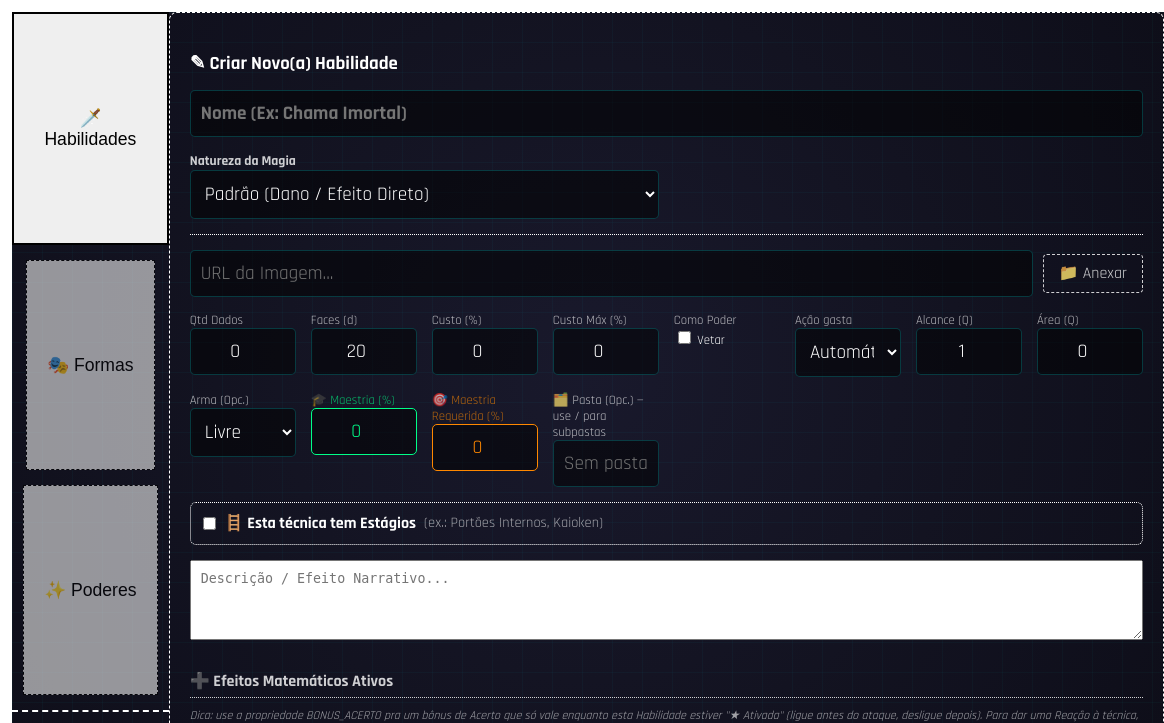
Test: PoderesFormEditor (UI) — os campos de Maestria aparecem nas 3 abas, cada uma com seu conjunto (Forma: +Fadiga por Uso; Habilidade/Poder: +Maestria Requerida) › digitar 150 no campo de Maestria Requerida (aba Habilidades) clampa visualmente pra 100, e -20 clampa pra 0
Replace the text in the number field below "🎯 Maestria Requerida (%)" with "150" at (485, 447), box [432, 424, 538, 471]
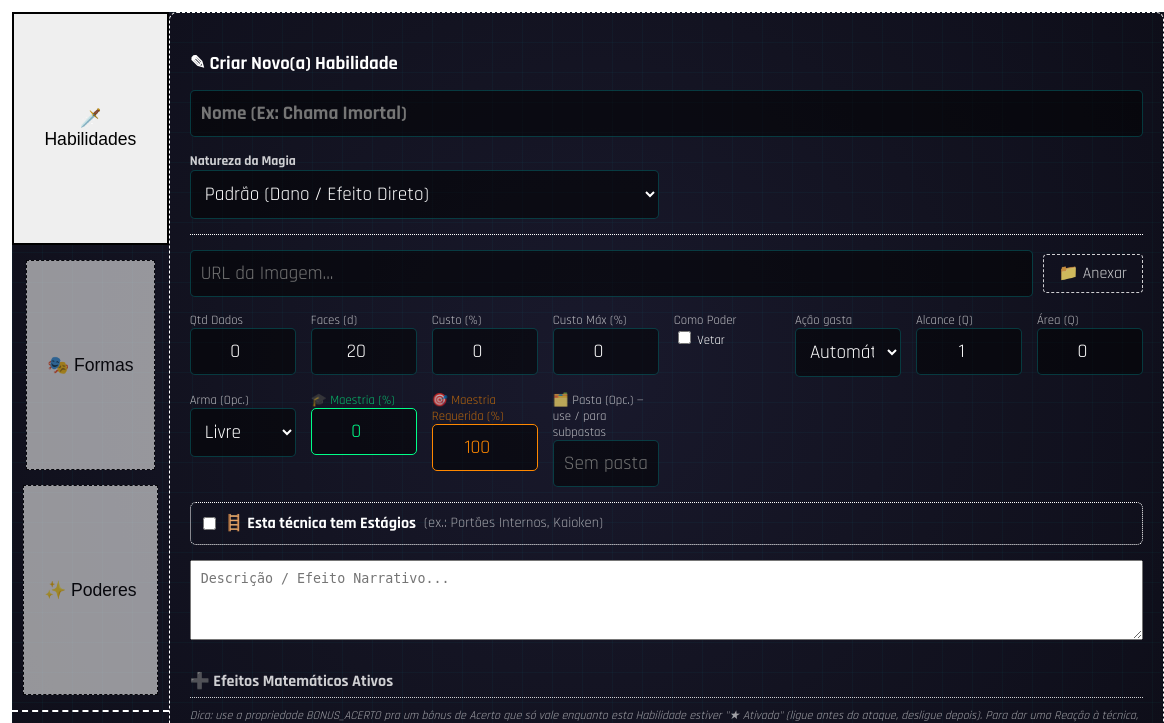
Now the number field below "🎯 Maestria Requerida (%)" holds "100"
Replace the text in the number field below "🎯 Maestria Requerida (%)" with "-20" at (485, 447), box [432, 424, 538, 471]
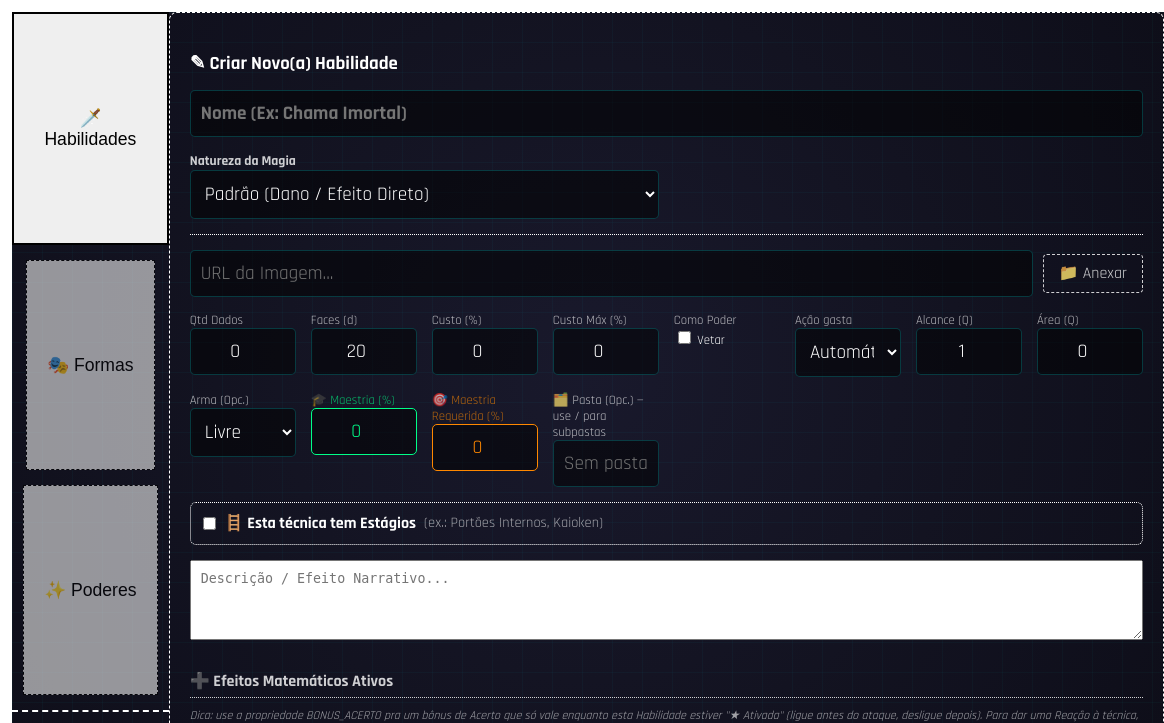
Now the number field below "🎯 Maestria Requerida (%)" holds "0", box [432, 424, 538, 471]
